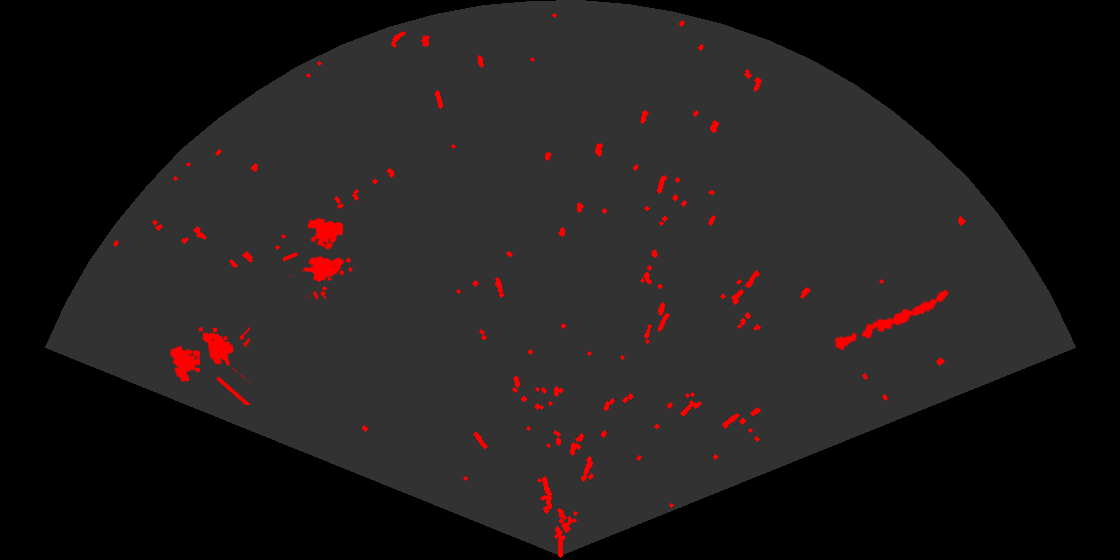cage: (169, 325, 250, 405), (283, 216, 353, 299)
chain: (833, 288, 951, 352)
